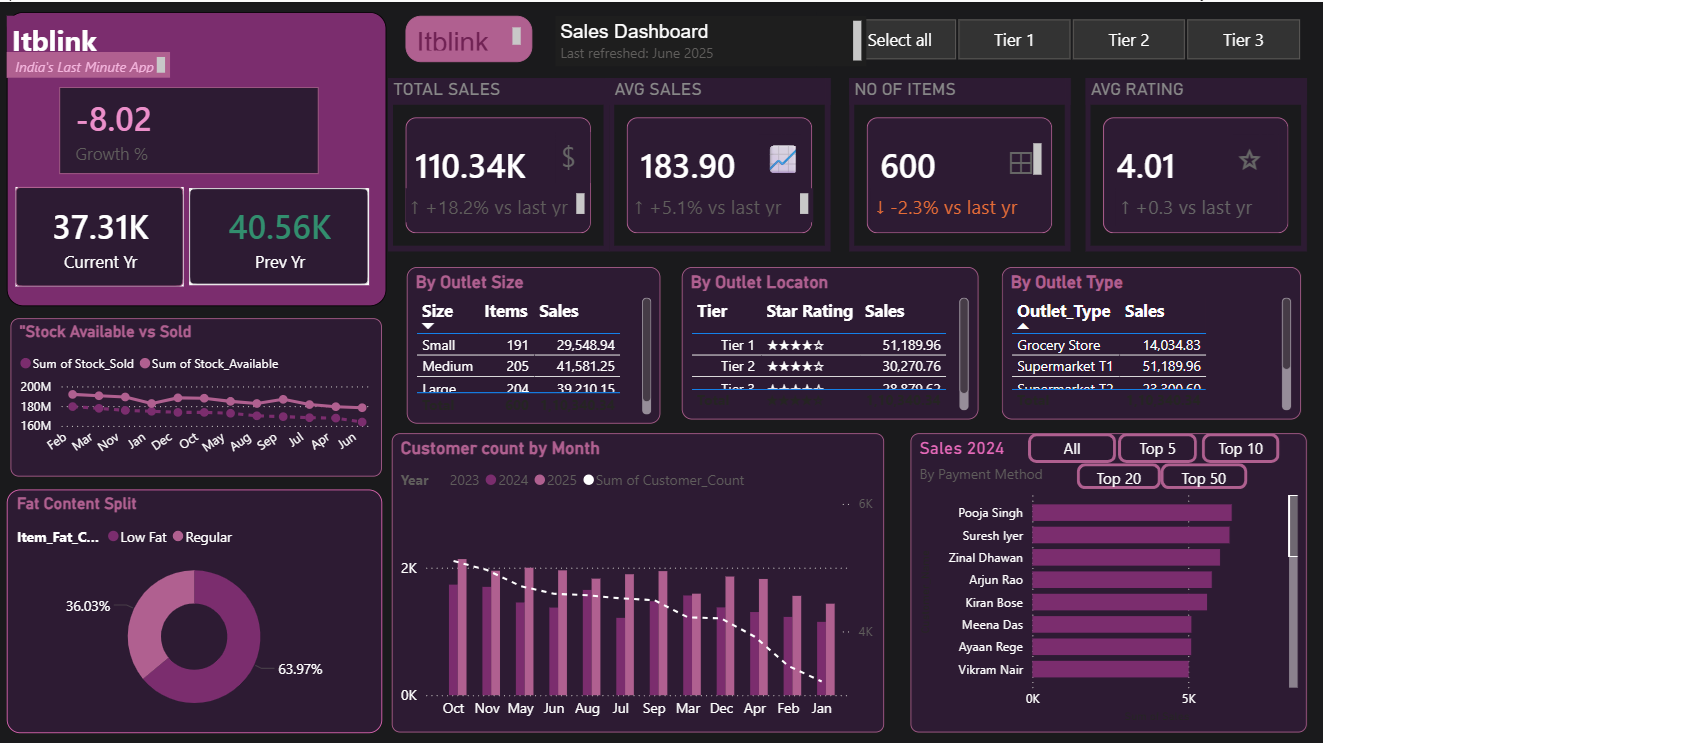

What the dashboard file says about the page in this screenshot:
{"tool":"powerbi","page":{"name":"Page 1","canvas":[1280,720],"ordinal":0},"visuals":[{"type":"cardVisual","title":"TOTAL SALES","fields":{"Data":["Sum(Sales_Data.Sales)"]},"box":[376.2,73.8,213.8,167.5],"z":0},{"type":"slicer","fields":{"Values":["Sales_Data.Outlet_Location_Type"]},"box":[790,10,490,52.5],"z":4000},{"type":"tableEx","title":"By Outlet Size","fields":{"Values":["Sales_Data.Outlet_Size","Sales_Data.Transaction_ID","Sum(Sales_Data.Sales)"]},"box":[395,256.2,245,151.2],"z":5000},{"type":"tableEx","title":"By Outlet Locaton","fields":{"Values":["Sales_Data.Outlet_Location_Type","Customer_Counts.Star Rating","Sum(Sales_Data.Sales)"]},"box":[660,256.2,286.2,147.5],"z":6000},{"type":"shape","box":[8.8,10,366.2,283.8],"z":7000},{"type":"textbox","box":[8.8,13.8,253.8,60],"z":8000},{"type":"textbox","box":[8.8,48.8,157.5,25],"z":9000},{"type":"cardVisual","fields":{"Data":["Customer_Counts.Growth %"]},"box":[58.8,82.5,250,83.8],"z":10000},{"type":"cardVisual","fields":{"Data":["Sum(Sales_Data.Sales)"]},"box":[12.5,173.8,172.5,106.2],"z":11000},{"type":"cardVisual","fields":{"Data":["Sum(Sales_Data.Sales)"]},"box":[185,180,173.8,93.8],"z":12000},{"type":"tableEx","title":"By Outlet Type","fields":{"Values":["Sales_Data.Outlet_Type","Sum(Sales_Data.Sales)"]},"box":[968.8,256.2,288.8,147.5],"z":13000},{"type":"clusteredBarChart","title":"Sales 2024","fields":{"Category":["Sales_Data.Customer_Name"],"Y":["Sum(Sales_Data.Sales)"]},"box":[881.2,416.2,382.5,288.8],"z":14000},{"type":"actionButton","box":[993.8,416.2,85,28.8],"z":15000},{"type":"actionButton","box":[1081.2,416.2,76.2,28.8],"z":16000},{"type":"actionButton","box":[1161.2,416.2,75,28.8],"z":17000},{"type":"actionButton","box":[1041.2,445,81.2,25],"z":18000},{"type":"actionButton","box":[1122.5,445,83.8,25],"z":19000},{"type":"lineClusteredColumnComboChart","title":"Customer count by Month","fields":{"Category":["Customer_Counts.Month"],"Y":["Sum(Customer_Counts.Customer_Count)"],"Series":["Customer_Counts.Year"],"Y2":["Sum(Customer_Counts.Customer_Count)"]},"box":[380,416.2,475,288.8],"z":20000},{"type":"lineChart","title":"\"Stock Available vs Sold","fields":{"Category":["Inventory_Data.Month"],"Y":["Sum(Inventory_Data.Stock_Sold)","Sum(Inventory_Data.Stock_Available)"]},"box":[12.5,305,358.8,152.5],"z":23000},{"type":"donutChart","title":"Fat Content Split","fields":{"Category":["Sales_Data.Item_Fat_Content"],"Y":["Sum(Sales_Data.Sales)"]},"box":[8.8,470,362.5,235],"z":24000},{"type":"textbox","box":[393.8,13.8,122.5,45],"z":24001},{"type":"textbox","box":[537.5,13.8,300,48.8],"z":24002},{"type":"cardVisual","title":"AVG SALES","fields":{"Data":["Avg(Sales_Data.Sales)"]},"box":[590,73.8,213.8,167.5],"z":24003},{"type":"cardVisual","title":"NO OF ITEMS","fields":{"Data":["CountNonNull(Sales_Data.Transaction_ID)"]},"box":[821.2,73.8,213.8,167.5],"z":24004},{"type":"cardVisual","title":"AVG RATING","fields":{"Data":["Avg(Sales_Data.Rating)"]},"box":[1050,73.8,213.8,167.5],"z":24005},{"type":"textbox","box":[537.5,125,33.8,48.8],"z":24006},{"type":"textbox","box":[393.8,180,177.5,32.5],"z":24007},{"type":"textbox","box":[608.8,180,177.5,32.5],"z":24008},{"type":"textbox","box":[842.5,180,172.5,36.2],"z":24009},{"type":"textbox","box":[1078.8,180,157.5,36.2],"z":24010},{"type":"textbox","box":[735,127.5,40,50],"z":24011},{"type":"textbox","box":[968.8,131.2,43.8,42.5],"z":24012},{"type":"textbox","box":[1192.5,127.5,43.8,50],"z":24013}]}

Visuals, with their boxes on the page's 1280x720 design canvas (x1, y1, x2, y2). These are canvas units, not pixel positions in the 1694x743 screenshot, which may show the page scaled, cropped or inside an application window:
"TOTAL SALES" cardVisual: box=[376, 74, 590, 241]
slicer - Sales_Data.Outlet_Location_Type: box=[790, 10, 1280, 62]
"By Outlet Size" tableEx: box=[395, 256, 640, 407]
"By Outlet Locaton" tableEx: box=[660, 256, 946, 404]
shape: box=[9, 10, 375, 294]
textbox: box=[9, 14, 263, 74]
textbox: box=[9, 49, 166, 74]
cardVisual - Customer_Counts.Growth %: box=[59, 82, 309, 166]
cardVisual - Sum(Sales_Data.Sales): box=[12, 174, 185, 280]
cardVisual - Sum(Sales_Data.Sales): box=[185, 180, 359, 274]
"By Outlet Type" tableEx: box=[969, 256, 1258, 404]
"Sales 2024" clusteredBarChart: box=[881, 416, 1264, 705]
actionButton: box=[994, 416, 1079, 445]
actionButton: box=[1081, 416, 1157, 445]
actionButton: box=[1161, 416, 1236, 445]
actionButton: box=[1041, 445, 1122, 470]
actionButton: box=[1122, 445, 1206, 470]
"Customer count by Month" lineClusteredColumnComboChart: box=[380, 416, 855, 705]
""Stock Available vs Sold" lineChart: box=[12, 305, 371, 458]
"Fat Content Split" donutChart: box=[9, 470, 371, 705]
textbox: box=[394, 14, 516, 59]
textbox: box=[538, 14, 838, 63]
"AVG SALES" cardVisual: box=[590, 74, 804, 241]
"NO OF ITEMS" cardVisual: box=[821, 74, 1035, 241]
"AVG RATING" cardVisual: box=[1050, 74, 1264, 241]
textbox: box=[538, 125, 571, 174]
textbox: box=[394, 180, 571, 212]
textbox: box=[609, 180, 786, 212]
textbox: box=[842, 180, 1015, 216]
textbox: box=[1079, 180, 1236, 216]
textbox: box=[735, 128, 775, 178]
textbox: box=[969, 131, 1013, 174]
textbox: box=[1192, 128, 1236, 178]
